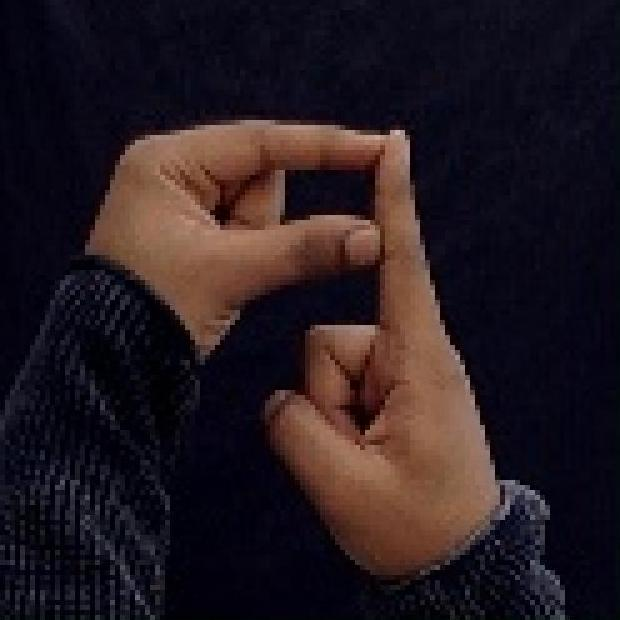O: (12, 103, 566, 615)
